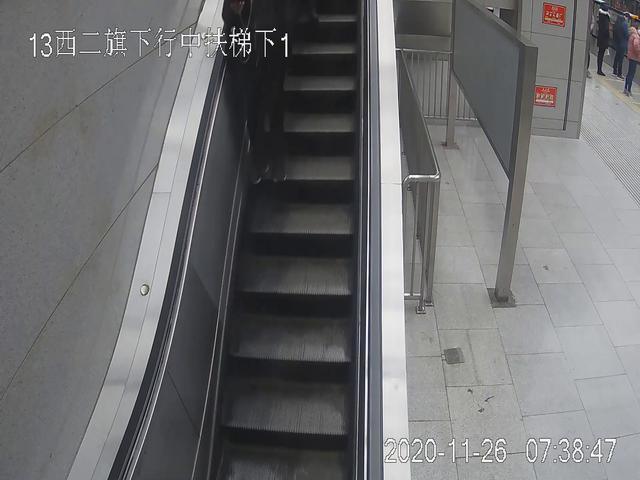person: (220, 1, 305, 189), (621, 26, 640, 95), (595, 4, 611, 75), (611, 12, 628, 77)
